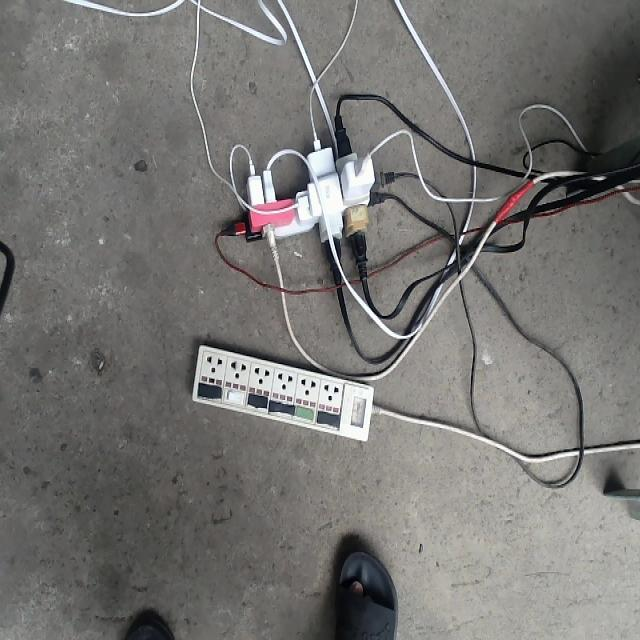-: (219, 133, 394, 267)
